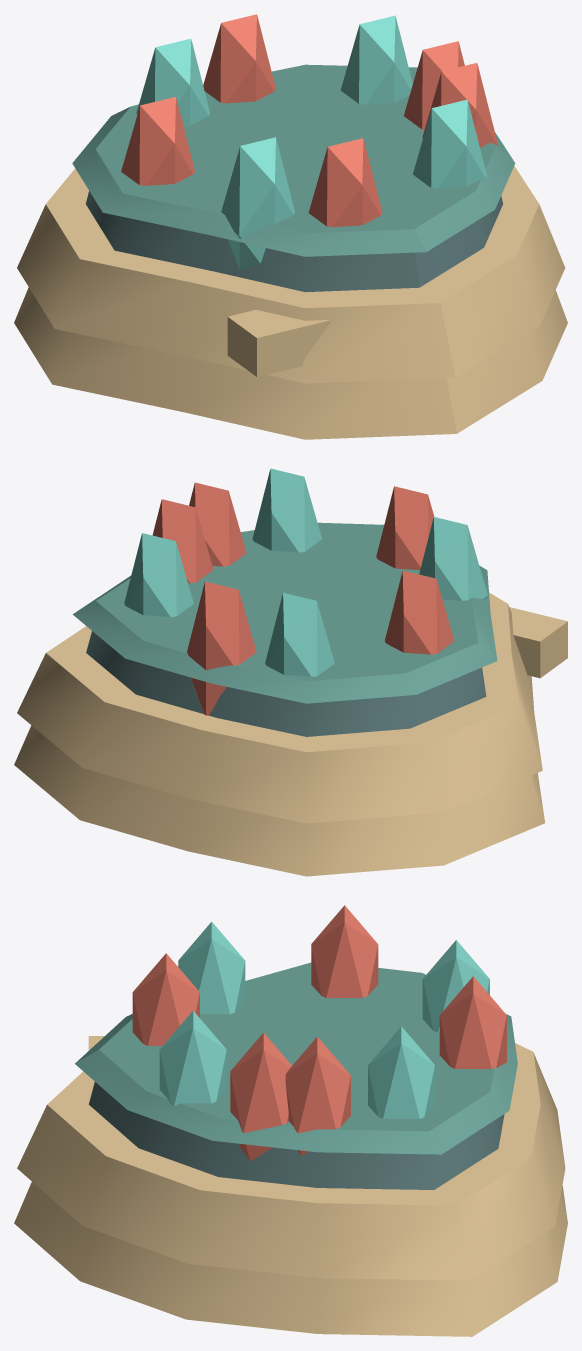
File: island-reef.glb
3 views of the same model, one above another, from view 1: azimuth 30°, elevation 25°; view 2: azimuth 150°, elevation 25°; view 3: azimuth 270°, elevation 25° (orthographic). The views are drawn at different scales.
Visible parts, largest first — view 1: terraced-shore (×4), glassy-reef-spire (×9), reef-jetty-landing; view 2: terraced-shore (×4), glassy-reef-spire (×9), reef-jetty-landing; view 3: terraced-shore (×4), glassy-reef-spire (×9).
Boxes of the visible parts, x1,y1,x2,y2 form: terraced-shore (×4): (14, 64, 567, 439); glassy-reef-spire (×9): (121, 14, 498, 269); reef-jetty-landing: (227, 309, 331, 376); terraced-shore (×4): (14, 522, 544, 876); glassy-reef-spire (×9): (124, 468, 487, 715); reef-jetty-landing: (509, 607, 567, 678); terraced-shore (×4): (14, 962, 567, 1336); glassy-reef-spire (×9): (132, 905, 506, 1161).
Size of the model in its own units: 28.66 by 13.78 by 28.32.
